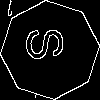S: (25, 25, 74, 62)
